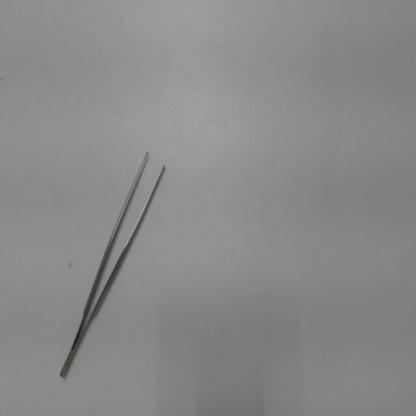Gillies Toothed Dissector: (56, 136, 184, 392)
